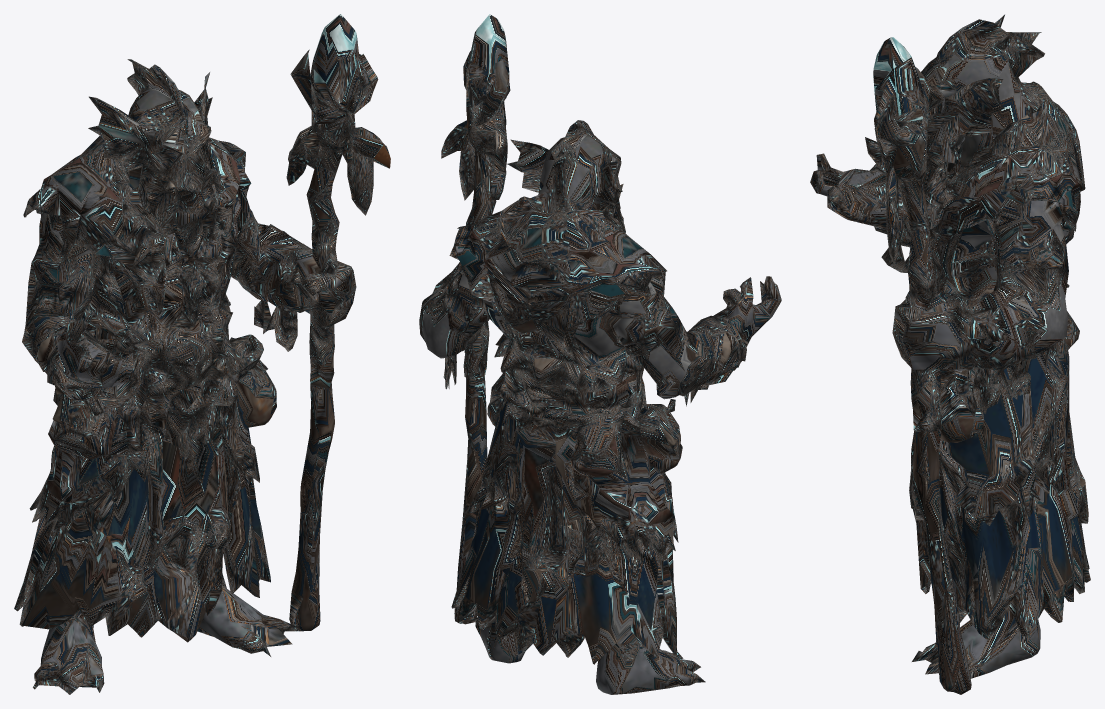
The model's file is scalekin_raider_shaman.glb.
The picture shows the model from 3 angles, left to right: view 1: azimuth 30°, elevation 25°; view 2: azimuth 150°, elevation 25°; view 3: azimuth 270°, elevation 25°; orthographic projection. The views are drawn at different scales.
Parts seen in each view (by area): view 1: Mesh_0; view 2: Mesh_0; view 3: Mesh_0.
Boxes of the visible parts, x1,y1,x2,y2 form: Mesh_0: [14, 14, 390, 694]; Mesh_0: [419, 14, 781, 694]; Mesh_0: [810, 14, 1090, 694].
Size of the model in its own units: 1.06 by 1.9 by 0.7383.
Materials: 1 (1 with a texture image).
